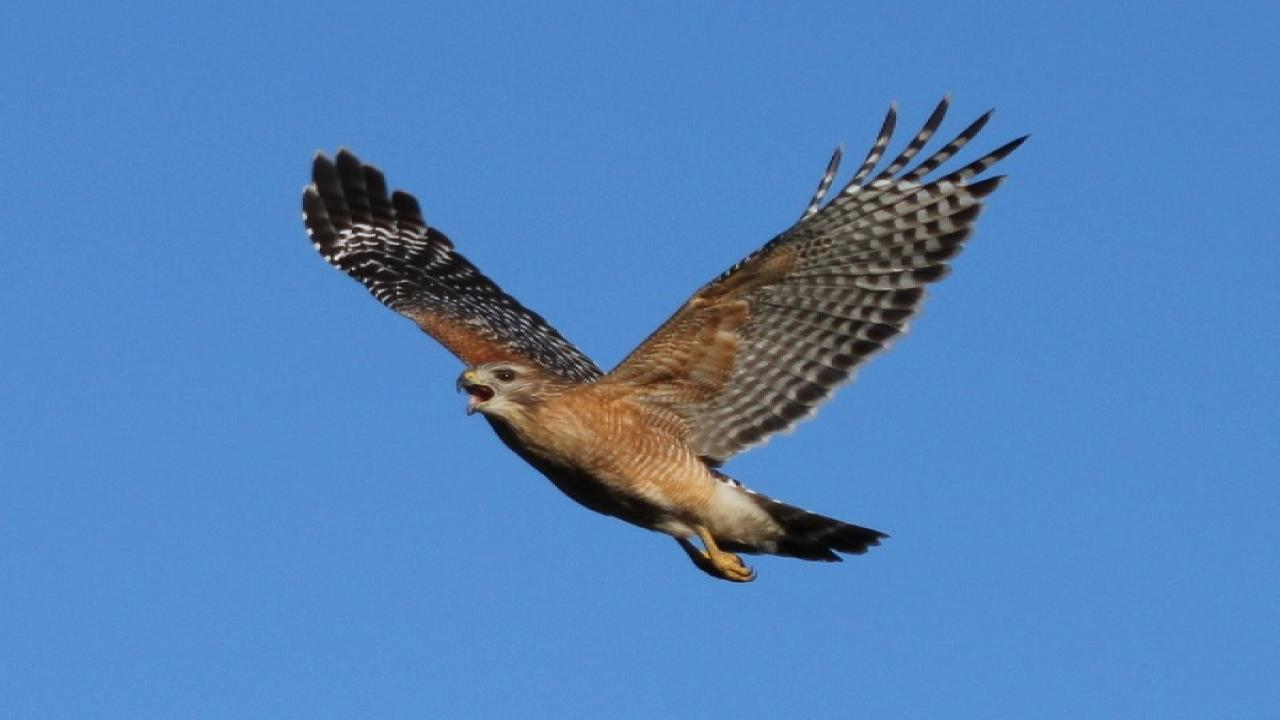Bird: (288, 89, 1046, 589)
